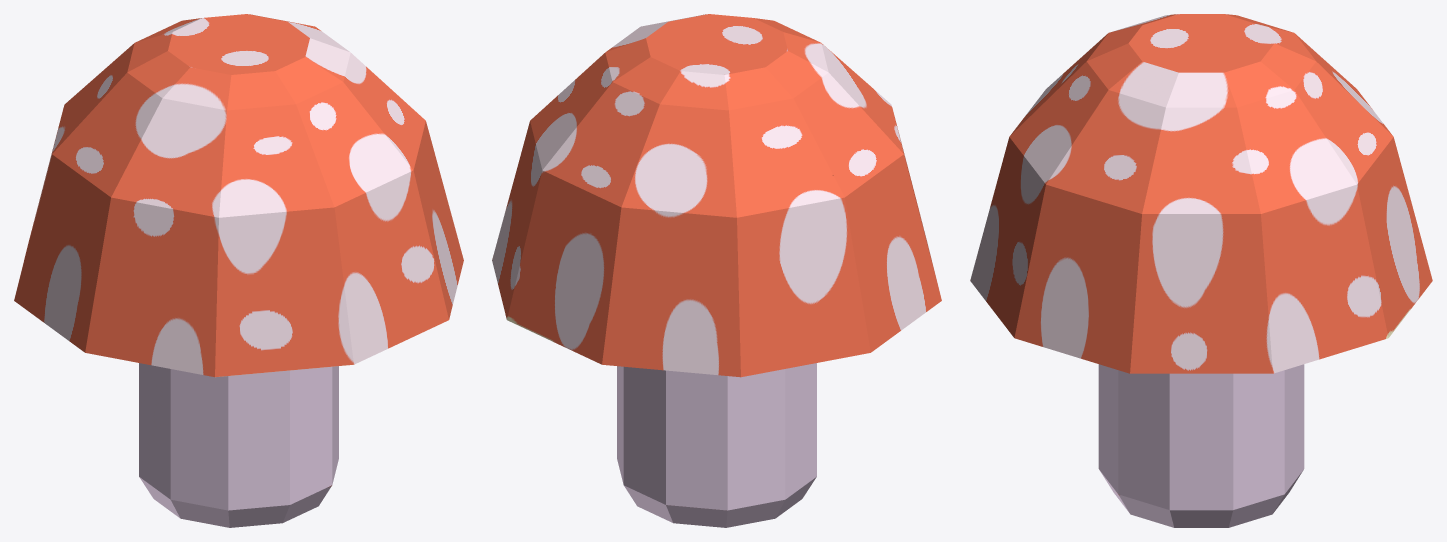
File: token.glb
3 renders of one model, left to right at view 1: azimuth 30°, elevation 25°; view 2: azimuth 150°, elevation 25°; view 3: azimuth 270°, elevation 25°, orthographic.
Visible parts, largest first — view 1: Cylinder; view 2: Cylinder; view 3: Cylinder.
Part boxes in pixels (box(x1,y1,x2,y2)): Cylinder: box(14, 14, 463, 527); Cylinder: box(492, 14, 941, 527); Cylinder: box(970, 14, 1432, 527).
Size of the model in its own units: 6.42 by 7.23 by 6.75.
1 material, 1 textured.
